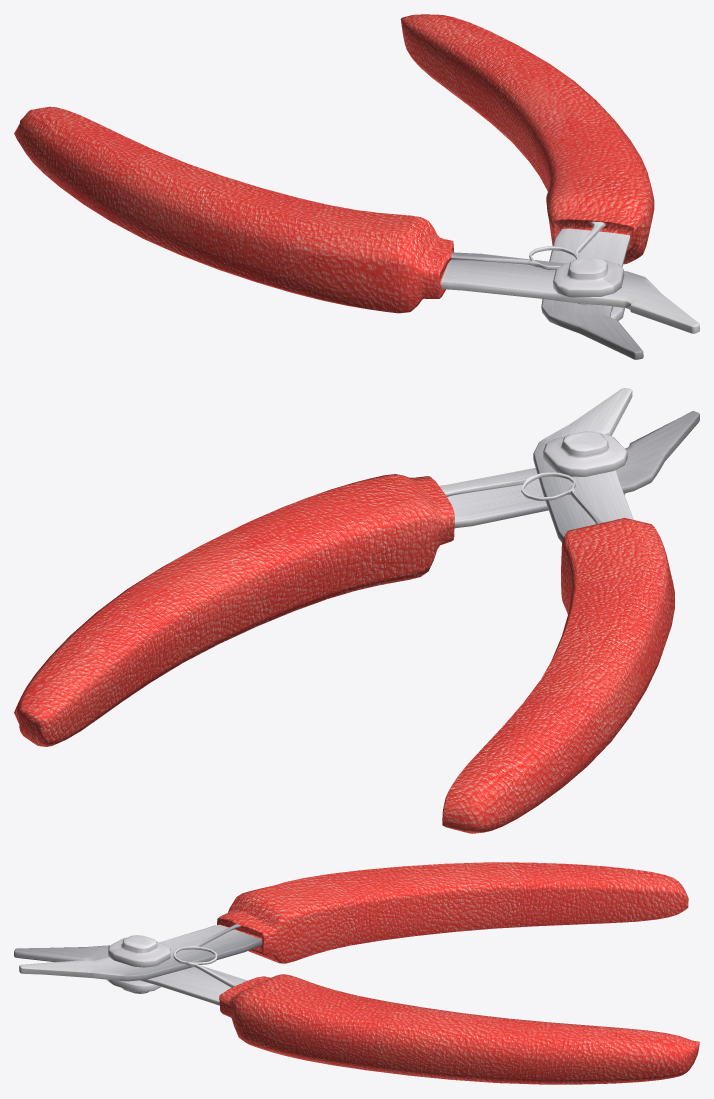
The model's file is Robbers_T3ANI210_WireCutters_Abdilla.fbx.
The picture shows the model from 3 angles, top to bottom: view 1: azimuth 30°, elevation 25°; view 2: azimuth 150°, elevation 25°; view 3: azimuth 270°, elevation 25°; orthographic projection. The views are drawn at different scales.
Visible parts, largest first — view 1: WireCutters, Screw; view 2: WireCutters, Screw; view 3: WireCutters, Screw.
Part boxes in pixels (x1=…): WireCutters: x1=14, y1=14, x2=699, y2=359; Screw: x1=553, y1=258, x2=624, y2=320; WireCutters: x1=14, y1=388, x2=699, y2=833; Screw: x1=543, y1=431, x2=627, y2=495; WireCutters: x1=14, y1=862, x2=699, y2=1084; Screw: x1=107, y1=935, x2=170, y2=993.
Size of the model in its own units: 10 by 1.97 by 15.92.
Materials: 3 (3 with a texture image).
